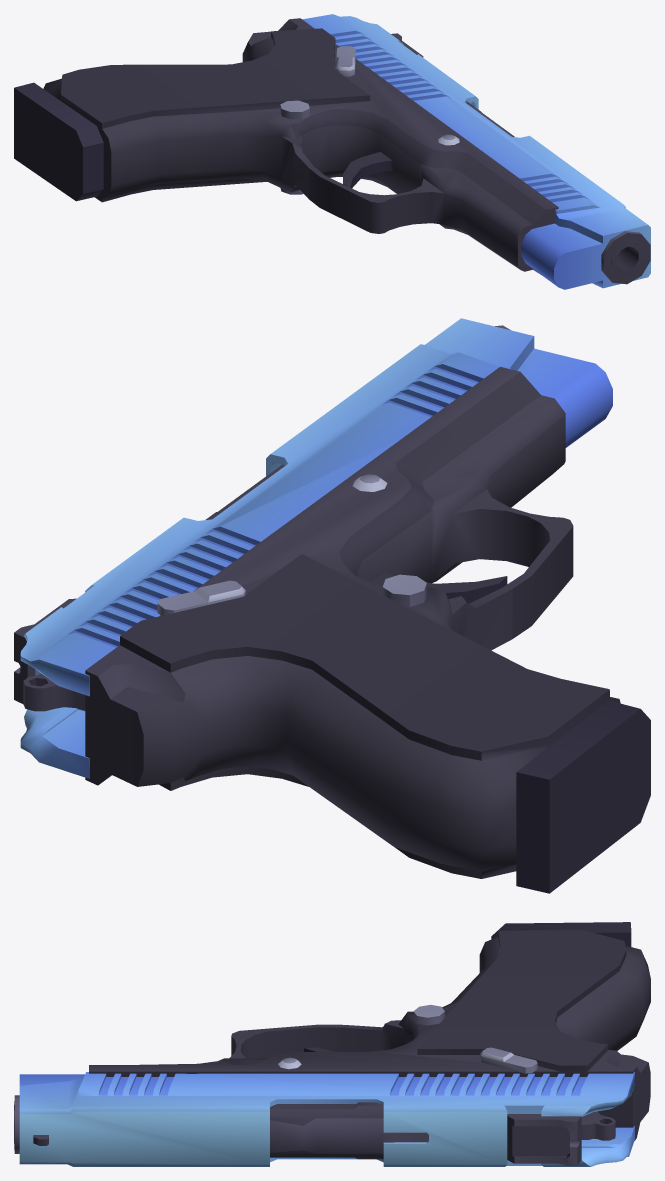
Rendered from Handgun_LVL1.fbx.
3 views of the same model, one above another, from view 1: azimuth 30°, elevation 25°; view 2: azimuth 150°, elevation 25°; view 3: azimuth 270°, elevation 25° (orthographic). The views are drawn at different scales.
Visible parts, largest first — view 1: Object003; view 2: Object003; view 3: Object003.
Part boxes in pixels (x1,y1,x2,y2): Object003: [14, 14, 650, 289]; Object003: [14, 318, 650, 893]; Object003: [14, 922, 650, 1166].
Bounding box in the file's own units: 41.72 × 9.78 × 60.91.
